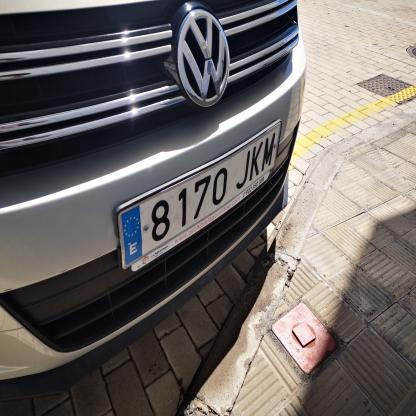patente: (118, 124, 281, 266)
